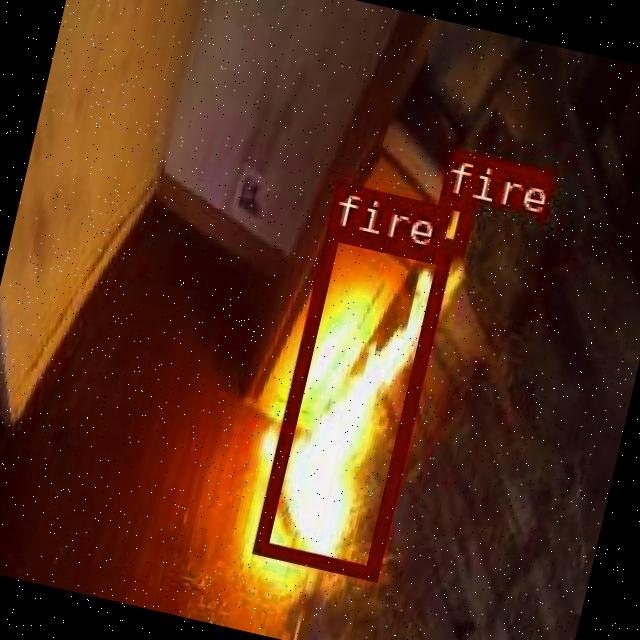fire: (252, 223, 450, 577), (428, 190, 473, 252)
